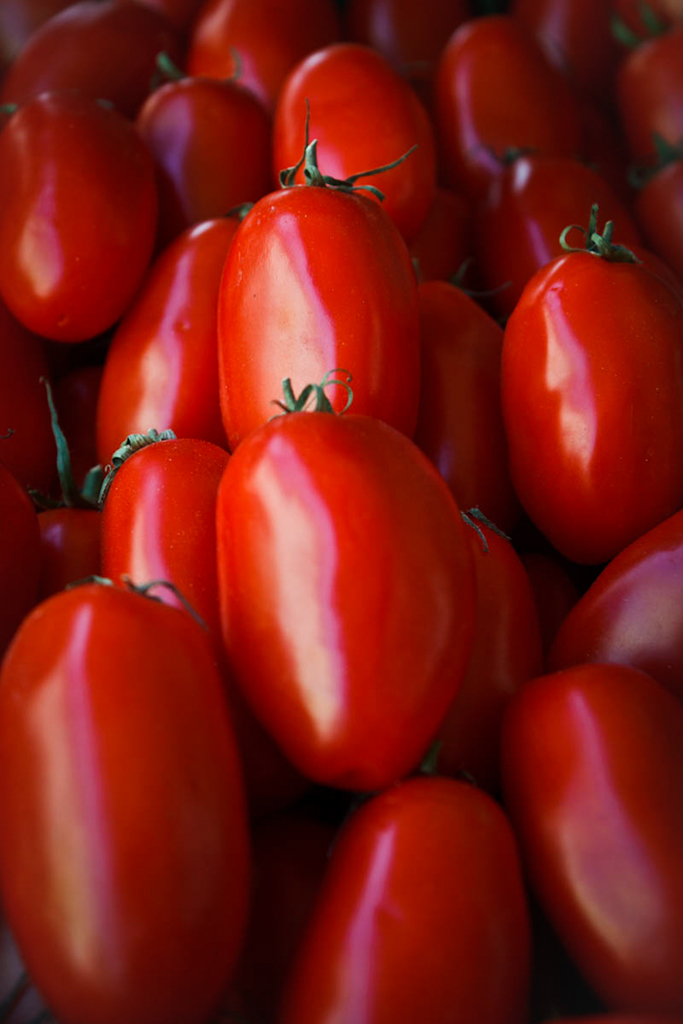Tomato: (0, 0, 683, 1023)
